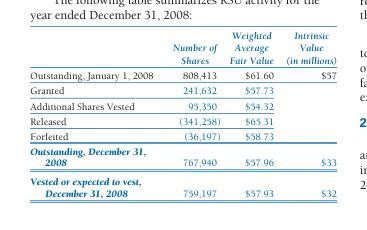table: (29, 29, 336, 198)
table column: (29, 29, 162, 198), (162, 29, 224, 198), (279, 29, 336, 198), (224, 29, 279, 198)
table column header: (29, 29, 336, 67)
table row: (29, 29, 336, 67), (29, 143, 336, 171), (29, 171, 336, 198), (29, 82, 336, 98), (29, 67, 336, 82), (29, 98, 336, 113), (29, 113, 336, 128), (29, 128, 336, 143)
